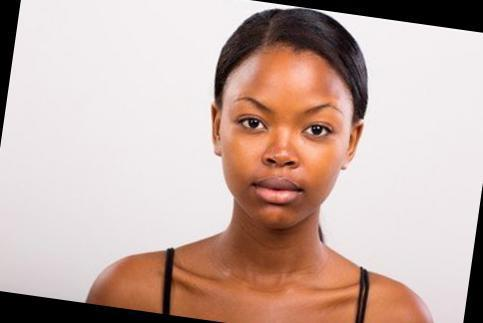Sober: (226, 59, 346, 224)
